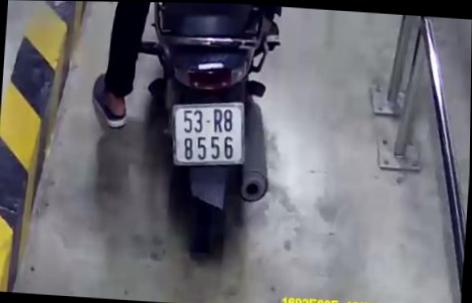LP: (168, 96, 248, 169)
